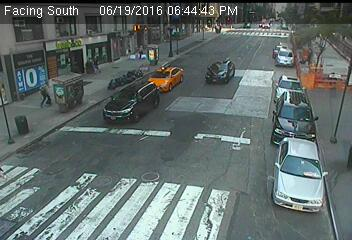neg: (325, 66, 345, 93), (297, 43, 315, 66)
pos: (33, 78, 57, 109)
